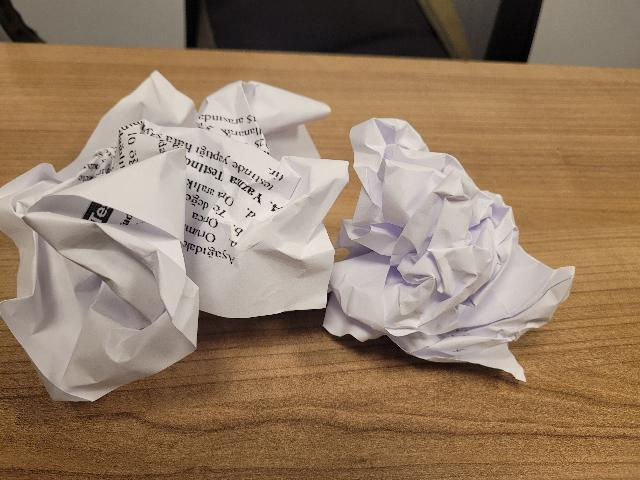Kagit: (0, 71, 334, 397), (334, 114, 576, 389)
